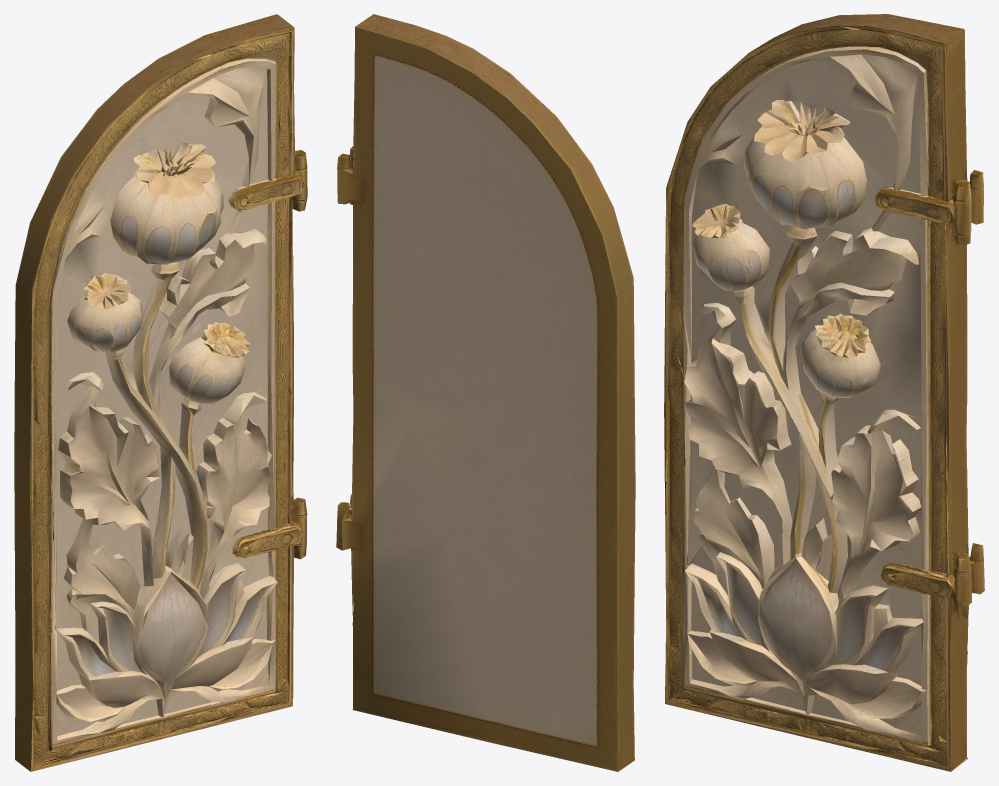
File: P2L_gate_ivory_leaf_game.glb
3 renders of one model, left to right at view 1: azimuth 30°, elevation 25°; view 2: azimuth 150°, elevation 25°; view 3: azimuth 330°, elevation 25°, orthographic. The views are drawn at different scales.
Parts seen in each view (by area): view 1: P2L_gate_ivory_leaf; view 2: P2L_gate_ivory_leaf; view 3: P2L_gate_ivory_leaf.
Part boxes in pixels (x1,y1,x2,y2): P2L_gate_ivory_leaf: (14,14,307,771); P2L_gate_ivory_leaf: (336,14,635,771); P2L_gate_ivory_leaf: (664,14,984,771).
Size of the model in its own units: 1.04 by 2.4 by 0.2974.
Materials: 1 (1 with a texture image).
